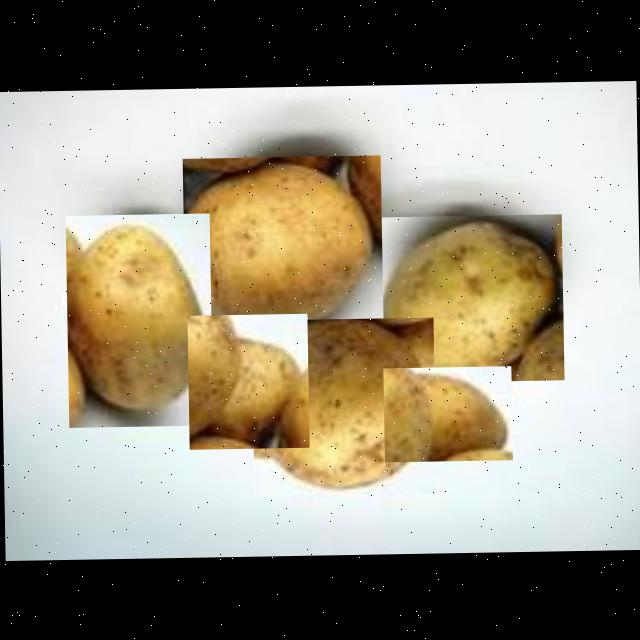Defected potato: (181, 154, 382, 333), (376, 213, 563, 382)
Potato: (250, 316, 435, 495), (64, 212, 212, 426), (186, 312, 308, 448), (382, 365, 512, 461)
